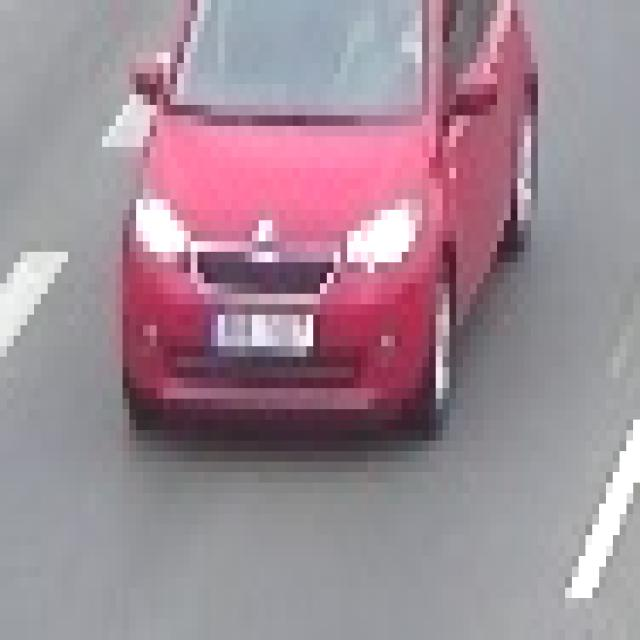red: (121, 0, 541, 447)
